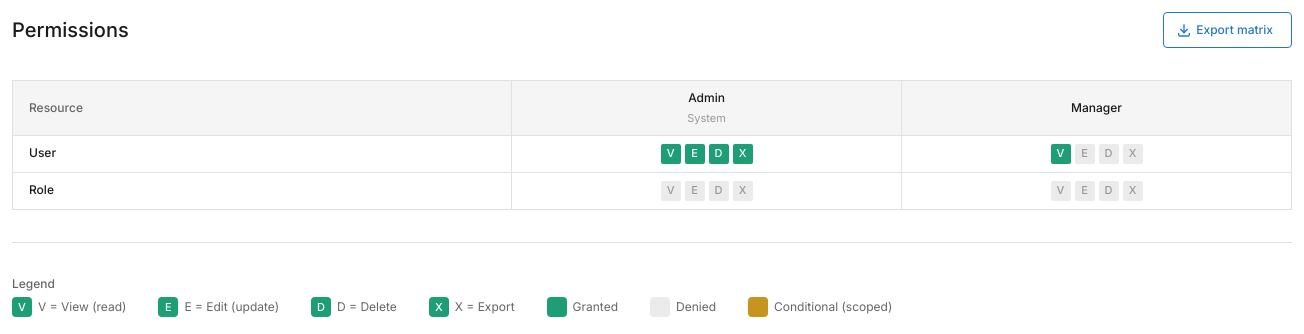
Scenario: PermissionMatrix — custom role columns are interactive › clicking a badge in a custom role column shows Save button
The image size is (1304, 334).
Check: the text "Manager" is shown, box [1071,98,1122,117]
// Click the first one (Manager/User/update)
Click the button named "Edit: Denied" at (1084, 154), box [1074,144,1094,164]
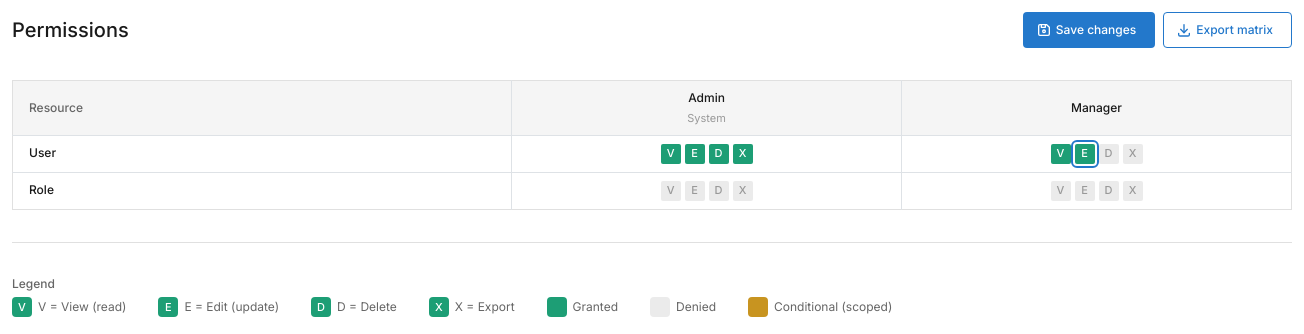
Check: the button "Save changes" is shown, box [1056,22,1136,37]
